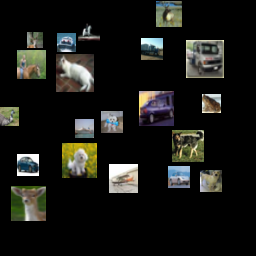airplane: (4, 208, 42, 246)
automobile: (210, 154, 248, 192), (158, 123, 190, 155), (162, 31, 194, 63), (184, 72, 206, 94), (214, 120, 230, 136), (115, 113, 131, 129)
bird: (66, 34, 98, 66), (82, 77, 108, 103), (138, 48, 157, 67)
cat: (72, 144, 107, 179), (76, 201, 105, 230), (150, 72, 179, 101)
dog: (5, 171, 40, 206)
frog: (174, 182, 206, 214)
ship: (9, 34, 41, 66), (125, 205, 147, 227)
